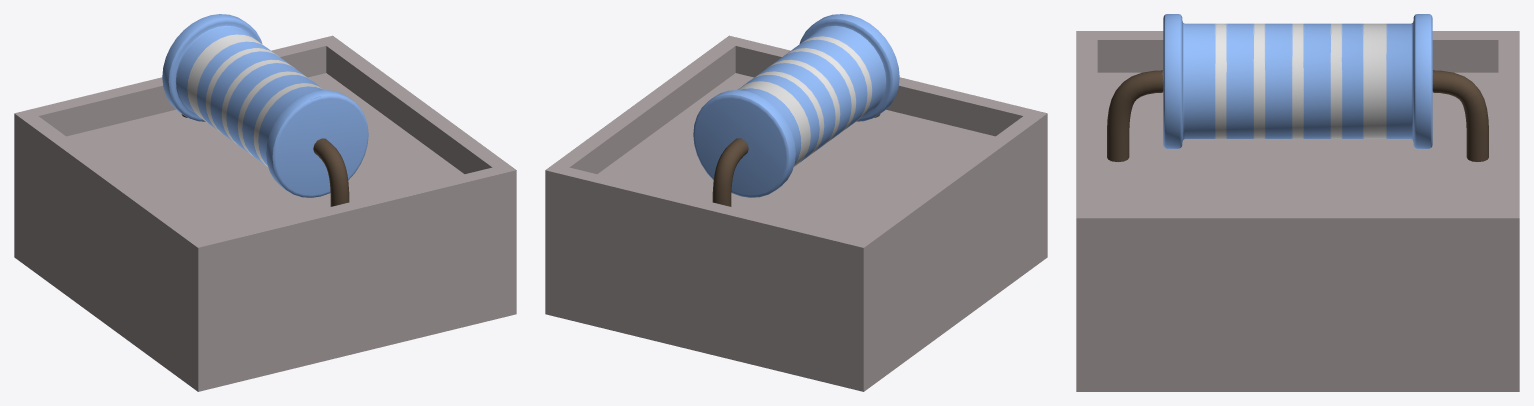
Rendered from Rezistor.fbx.
The picture shows the model from 3 angles, left to right: view 1: azimuth 30°, elevation 25°; view 2: azimuth 150°, elevation 25°; view 3: azimuth 270°, elevation 25°; orthographic projection. The views are drawn at different scales.
Parts seen in each view (by area): view 1: Resistor.001; view 2: Resistor.001; view 3: Resistor.001.
Boxes of the visible parts, bbox=[...] form: Resistor.001: bbox=[14, 14, 516, 391]; Resistor.001: bbox=[545, 14, 1047, 391]; Resistor.001: bbox=[1076, 14, 1519, 391].
Size of the model in its own units: 0.6082 by 0.4207 by 0.6082.
